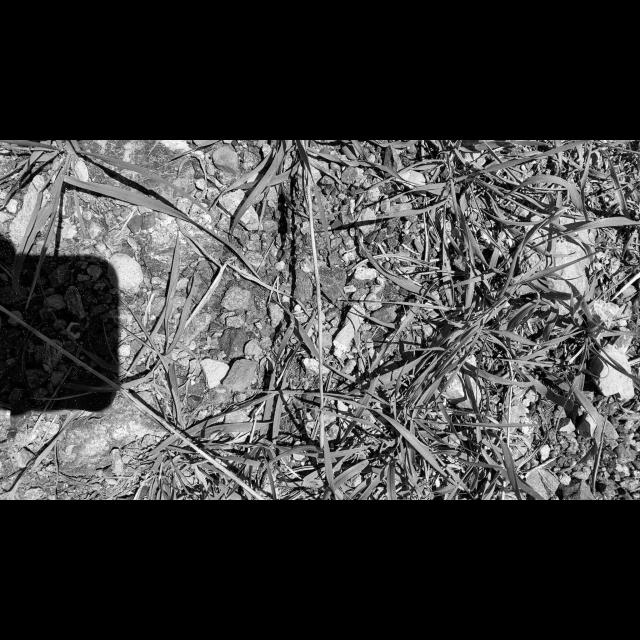cigarette: (332, 304, 366, 352)
